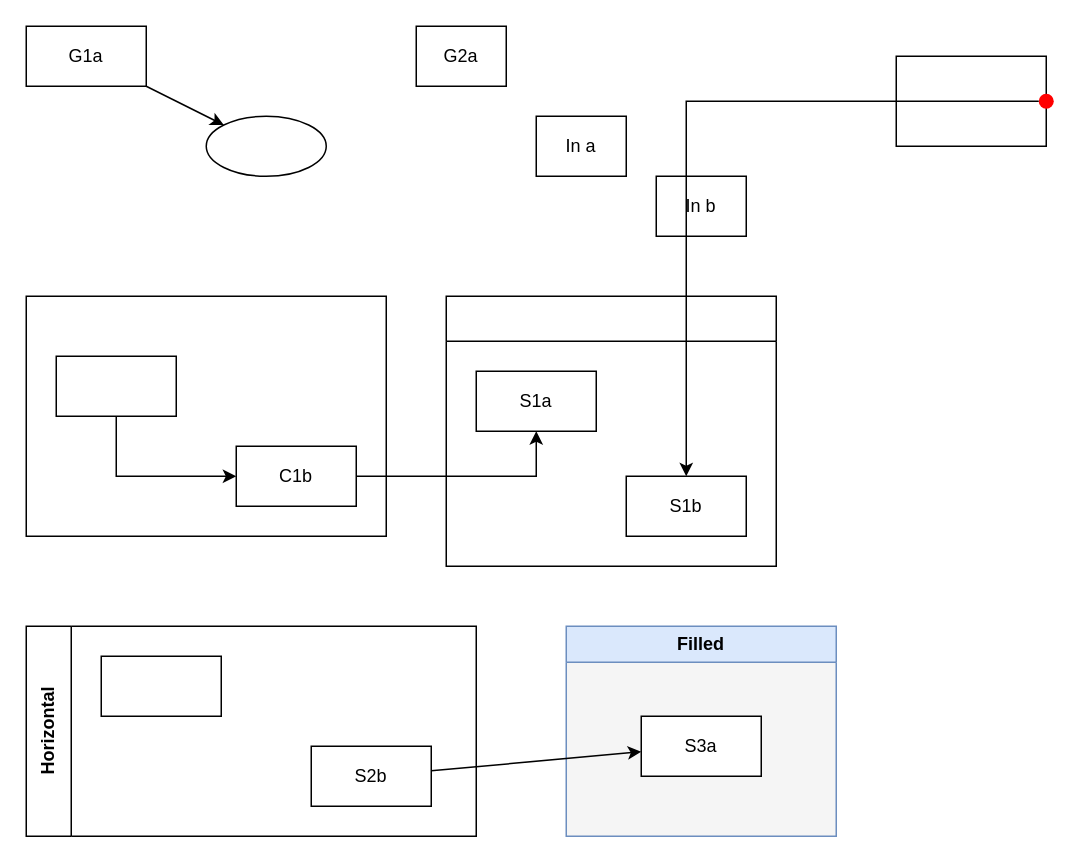
This 1080x863 diagram has some shape labels left out. The shapes that lost their labels are listed below. From the top down, each one's box as (x1, y1, x2, y2) in pixels, then its label:
(895, 55, 1046, 146): Host
(205, 115, 326, 176): G1b
(55, 355, 176, 416): C1a
(25, 295, 386, 536): Container
(445, 295, 776, 566): Lane
(100, 655, 221, 716): S2a
